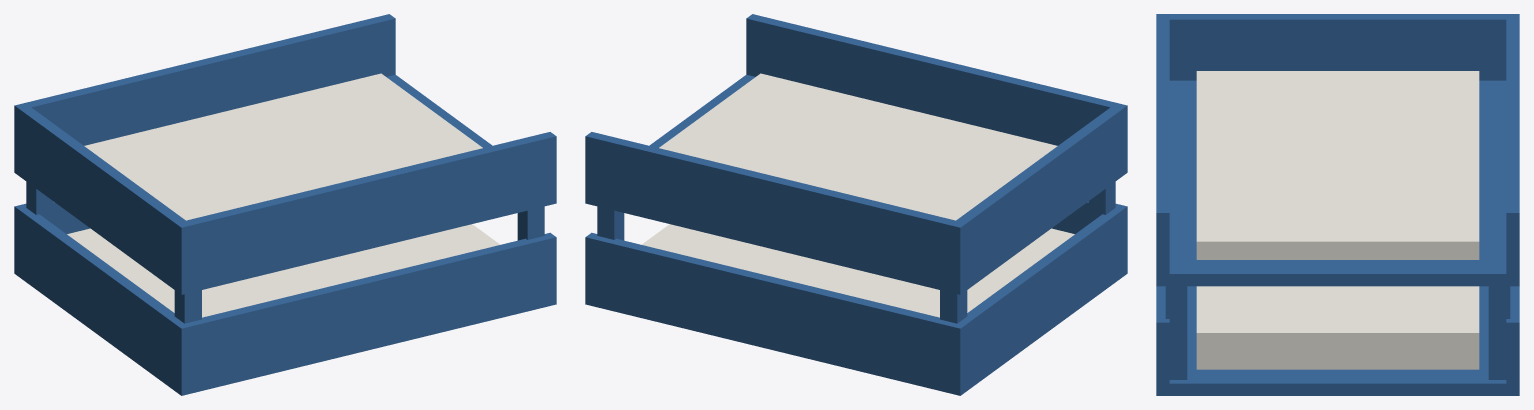
File: bandeja.glb
3 renders of one model, left to right at view 1: azimuth 30°, elevation 25°; view 2: azimuth 150°, elevation 25°; view 3: azimuth 270°, elevation 25°, orthographic. The views are drawn at different scales.
Visible parts, largest first — view 1: estrutura; view 2: estrutura; view 3: estrutura.
Boxes of the visible parts, x1,y1,x2,y2 form: estrutura: [14, 14, 556, 395]; estrutura: [585, 14, 1127, 395]; estrutura: [1156, 14, 1519, 395].
Size of the model in its own units: 0.35 by 0.15 by 0.27.
